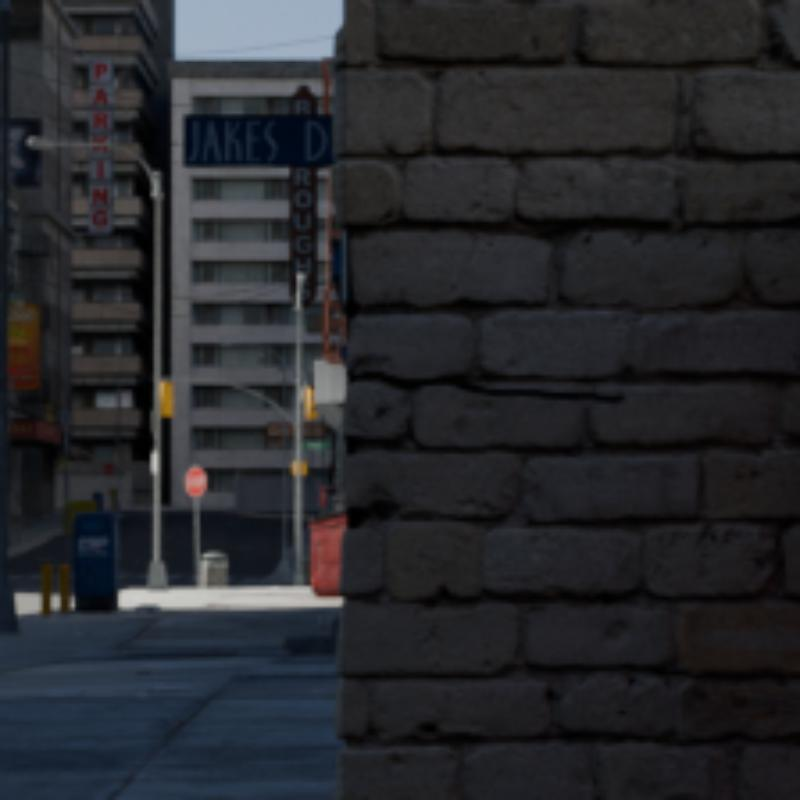pothole: (350, 371, 621, 400)
